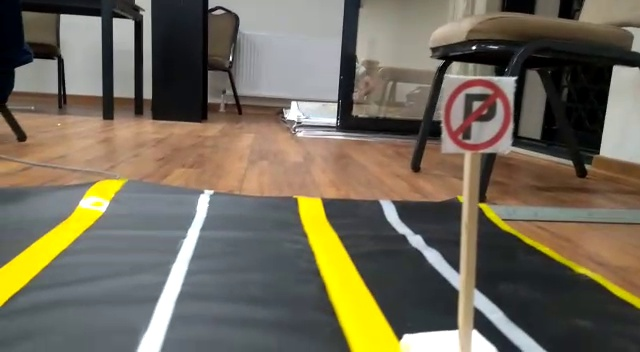park_yapilmaz: (442, 76, 514, 151)
